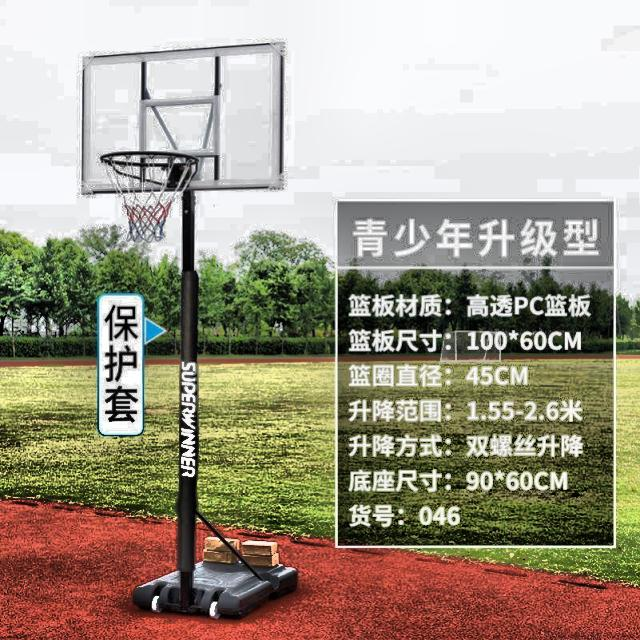rim: (97, 149, 196, 241)
